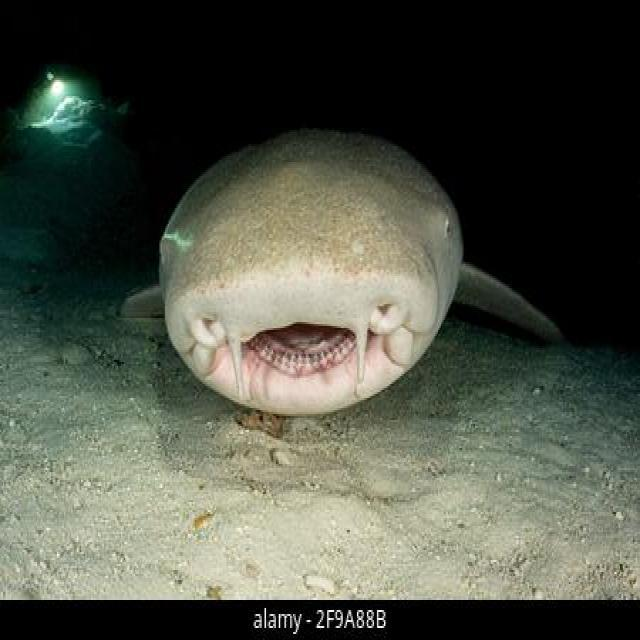Shark: (105, 68, 569, 436)
